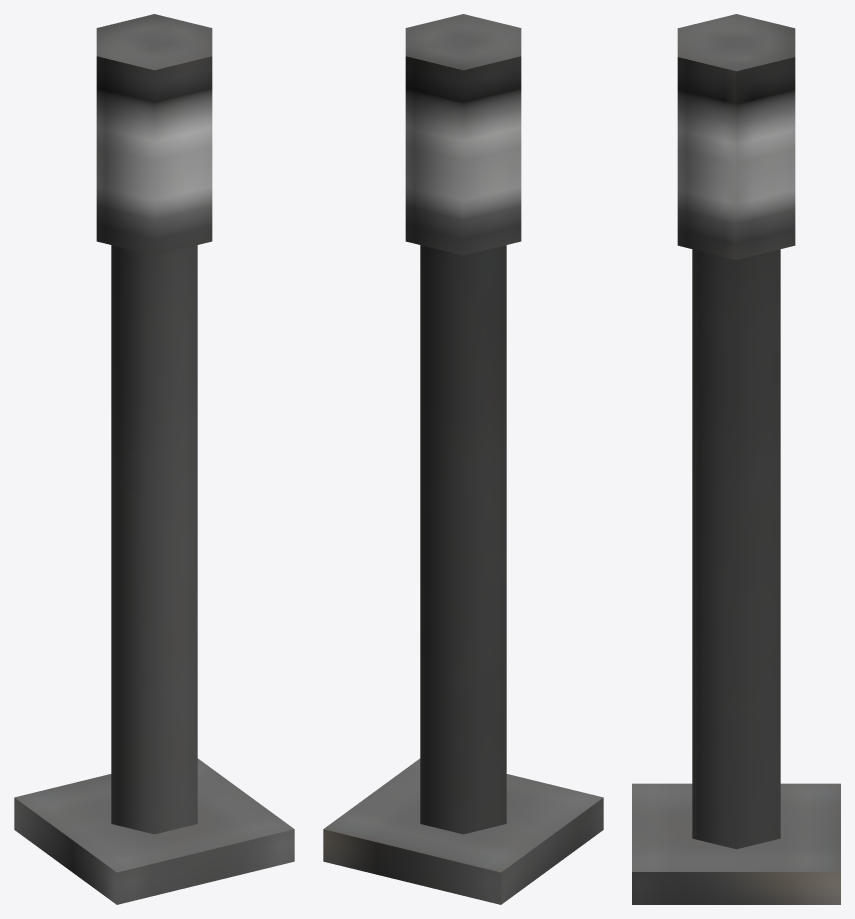
Rendered from Pole_Small.FBX.
3 renders of one model, left to right at view 1: azimuth 30°, elevation 25°; view 2: azimuth 150°, elevation 25°; view 3: azimuth 270°, elevation 25°, orthographic.
Parts seen in each view (by area): view 1: Pole_Small; view 2: Pole_Small; view 3: Pole_Small.
Part boxes in pixels (x1,y1,x2,y2): Pole_Small: (14, 14, 294, 904); Pole_Small: (323, 14, 603, 904); Pole_Small: (632, 14, 840, 904).
Bounding box in the file's own units: 65.5 × 283 × 65.5.
